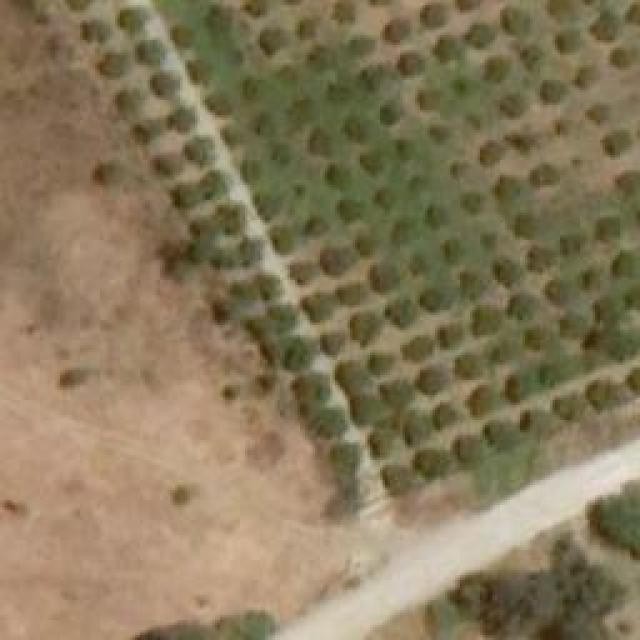Tree: (466, 541, 627, 640), (582, 470, 640, 553), (295, 368, 330, 408), (313, 408, 348, 441), (380, 468, 418, 498), (585, 380, 623, 410), (238, 610, 273, 640), (415, 450, 450, 480), (483, 418, 518, 448), (385, 298, 420, 328), (328, 443, 361, 473), (348, 395, 381, 425), (470, 303, 500, 336), (490, 178, 523, 208), (502, 0, 532, 32), (335, 280, 368, 308), (283, 338, 313, 368), (463, 388, 493, 418), (508, 288, 538, 318), (600, 130, 630, 160), (300, 293, 335, 318), (170, 178, 198, 208), (200, 168, 228, 198), (323, 245, 353, 273), (453, 435, 483, 463), (400, 415, 428, 445), (418, 365, 448, 393), (217, 205, 245, 233), (370, 430, 398, 458), (288, 260, 321, 283), (345, 358, 368, 391), (80, 18, 110, 43), (98, 55, 128, 80), (165, 105, 195, 130), (428, 403, 458, 428), (380, 380, 410, 405), (550, 395, 580, 420), (118, 85, 143, 113), (320, 330, 348, 355), (503, 375, 528, 403), (438, 322, 463, 350), (522, 328, 550, 353), (253, 192, 278, 220), (525, 248, 553, 273), (358, 65, 383, 93), (423, 0, 448, 28), (500, 95, 528, 120), (558, 235, 588, 258), (115, 10, 148, 30), (490, 260, 523, 280), (137, 40, 165, 63), (202, 90, 230, 113), (350, 315, 378, 338), (267, 305, 295, 328), (612, 253, 640, 276), (510, 128, 538, 151), (462, 23, 490, 46), (153, 153, 178, 178), (238, 240, 263, 265), (370, 265, 395, 290), (440, 238, 465, 263), (258, 28, 283, 53), (383, 18, 408, 43), (435, 38, 460, 63), (583, 265, 603, 295), (343, 35, 373, 55), (523, 45, 543, 75), (255, 115, 279, 140), (188, 135, 211, 160), (255, 275, 280, 298), (208, 300, 233, 323), (368, 353, 393, 376), (455, 353, 480, 376), (458, 270, 483, 293), (375, 100, 398, 125), (617, 167, 640, 192), (423, 203, 446, 228), (478, 143, 503, 166), (535, 163, 558, 188), (273, 63, 296, 88), (590, 18, 615, 41), (293, 15, 319, 37), (405, 338, 433, 358), (220, 125, 243, 148), (420, 285, 443, 308), (323, 165, 346, 188), (305, 215, 328, 238), (595, 298, 618, 321), (310, 48, 333, 71), (400, 53, 423, 76), (485, 58, 508, 81), (540, 80, 563, 103), (553, 115, 576, 137), (193, 220, 218, 240), (233, 280, 253, 305), (343, 118, 368, 138), (270, 230, 290, 255), (595, 215, 620, 235), (548, 278, 568, 303), (563, 315, 588, 335), (460, 193, 485, 213), (583, 105, 608, 125), (610, 45, 630, 70), (153, 73, 176, 93), (173, 28, 196, 48), (130, 120, 150, 143), (518, 410, 541, 430), (313, 133, 333, 156), (358, 153, 378, 176), (355, 233, 375, 256), (328, 80, 348, 103), (448, 75, 471, 95), (573, 70, 596, 90), (555, 30, 578, 50), (247, 0, 271, 19), (188, 62, 213, 80), (625, 280, 640, 308), (450, 160, 471, 180), (90, 162, 113, 180), (393, 137, 416, 155), (340, 198, 358, 221), (242, 160, 260, 183), (415, 90, 438, 108), (513, 218, 533, 238), (373, 190, 393, 208), (240, 82, 260, 100), (428, 125, 448, 140), (407, 175, 425, 190), (480, 235, 495, 250)
